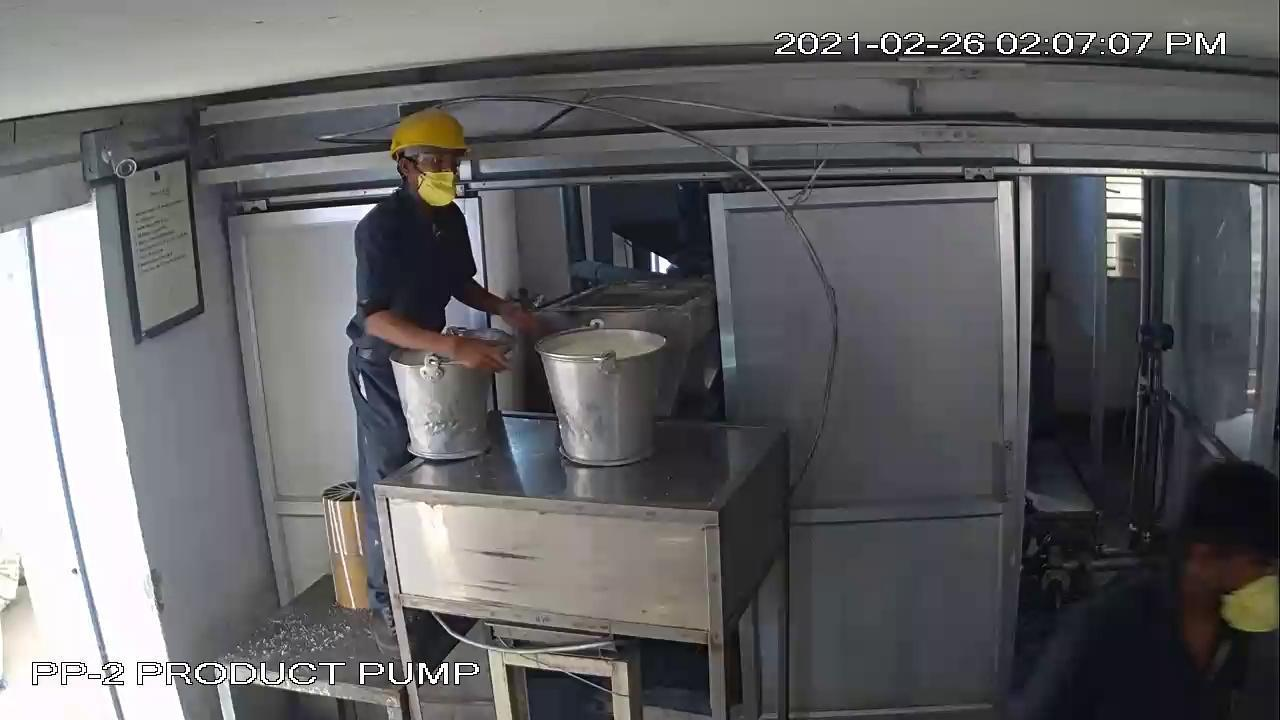helmet: (376, 106, 485, 178)
